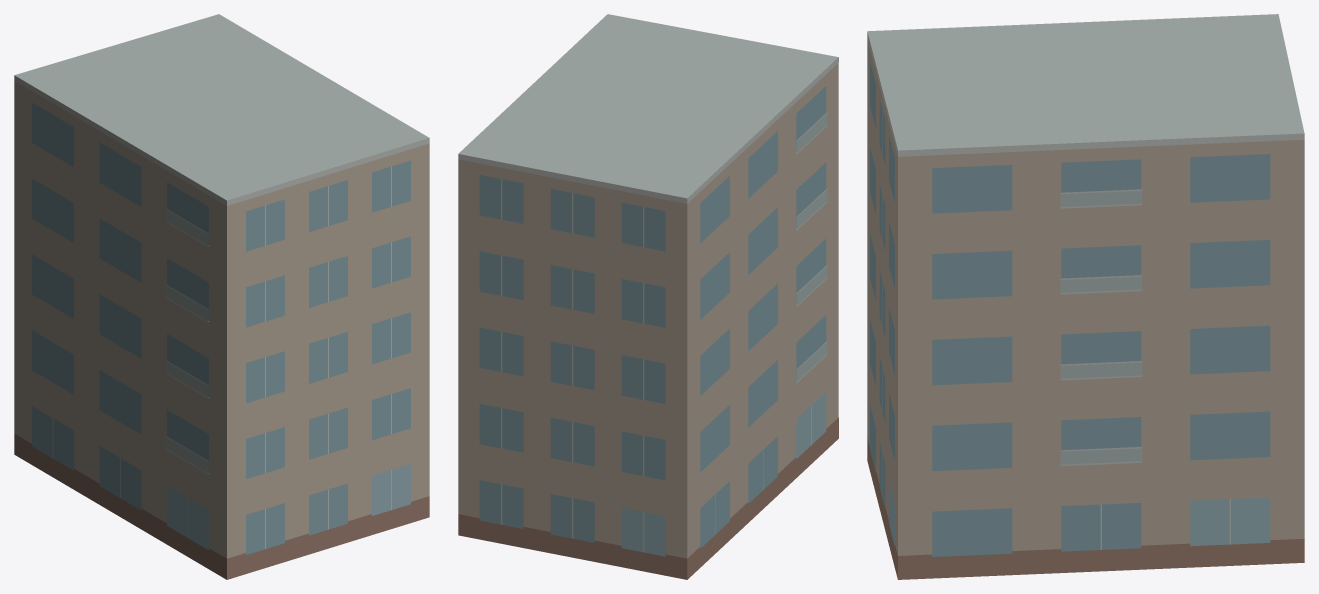
The model's file is survey-upis-32667096.glb.
The picture shows the model from 3 angles, left to right: view 1: azimuth 30°, elevation 25°; view 2: azimuth 150°, elevation 25°; view 3: azimuth 270°, elevation 25°; orthographic projection. The views are drawn at different scales.
Parts seen in each view (by area): view 1: survey-upis-32667096.tmp; view 2: survey-upis-32667096.tmp; view 3: survey-upis-32667096.tmp.
Part boxes in pixels (bbox=[...]): survey-upis-32667096.tmp: bbox=[14, 14, 429, 579]; survey-upis-32667096.tmp: bbox=[458, 14, 838, 579]; survey-upis-32667096.tmp: bbox=[867, 14, 1304, 579].
Bounding box in the file's own units: 11.54 × 16.9 × 15.61.
